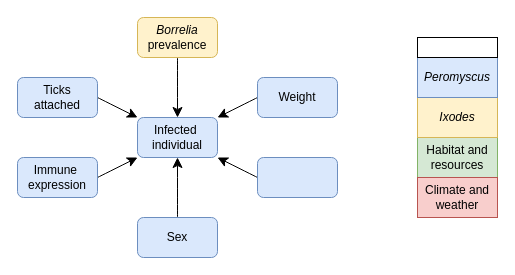
Some shapes in this 515 by 275 pixel diagram are drawn without their labels. Here are the shapes that lost their labels. From the top down, the centre of each, then its label:
the point at 457,47: Legend:
the point at 297,177: Age
